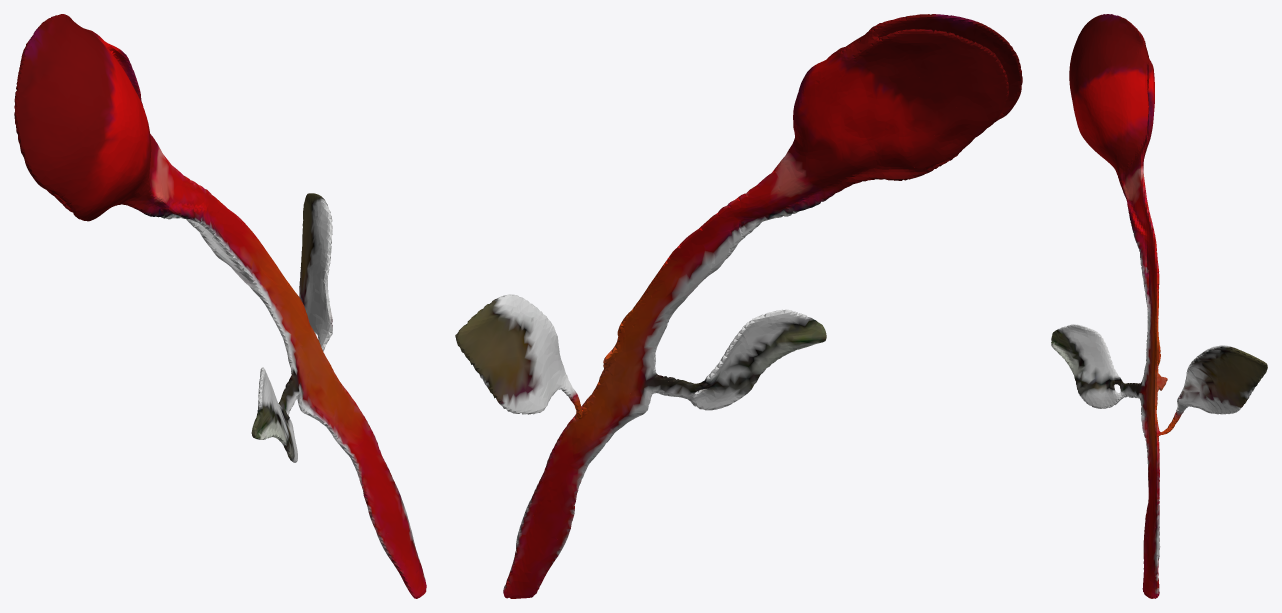
Rendered from rose_red.glb.
The picture shows the model from 3 angles, left to right: view 1: azimuth 30°, elevation 25°; view 2: azimuth 150°, elevation 25°; view 3: azimuth 270°, elevation 25°; orthographic projection. The views are drawn at different scales.
Visible parts, largest first — view 1: geometry_0; view 2: geometry_0; view 3: geometry_0.
Part boxes in pixels (bbox=[...]): geometry_0: bbox=[14, 14, 426, 598]; geometry_0: bbox=[455, 14, 1022, 598]; geometry_0: bbox=[1051, 14, 1267, 598].
Size of the model in its own units: 0.4502 by 0.625 by 0.2724.
